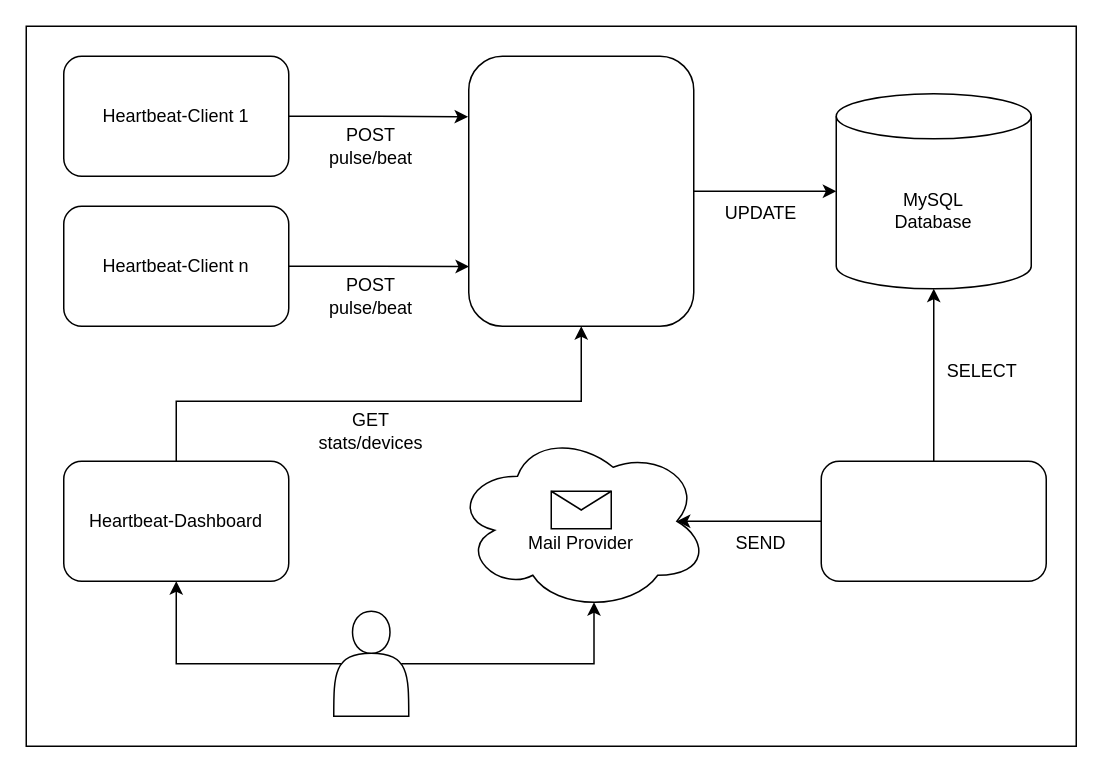
The diagram is 1103 pixels wide and 773 high, and some of its shapes have lost their labels. Each missing label, with the centre of its shape:
"Heartbeat-Alert" goes at point 933,520.
"Heartbeat-Server" goes at point 580,190.
"User" goes at point 370,663.
